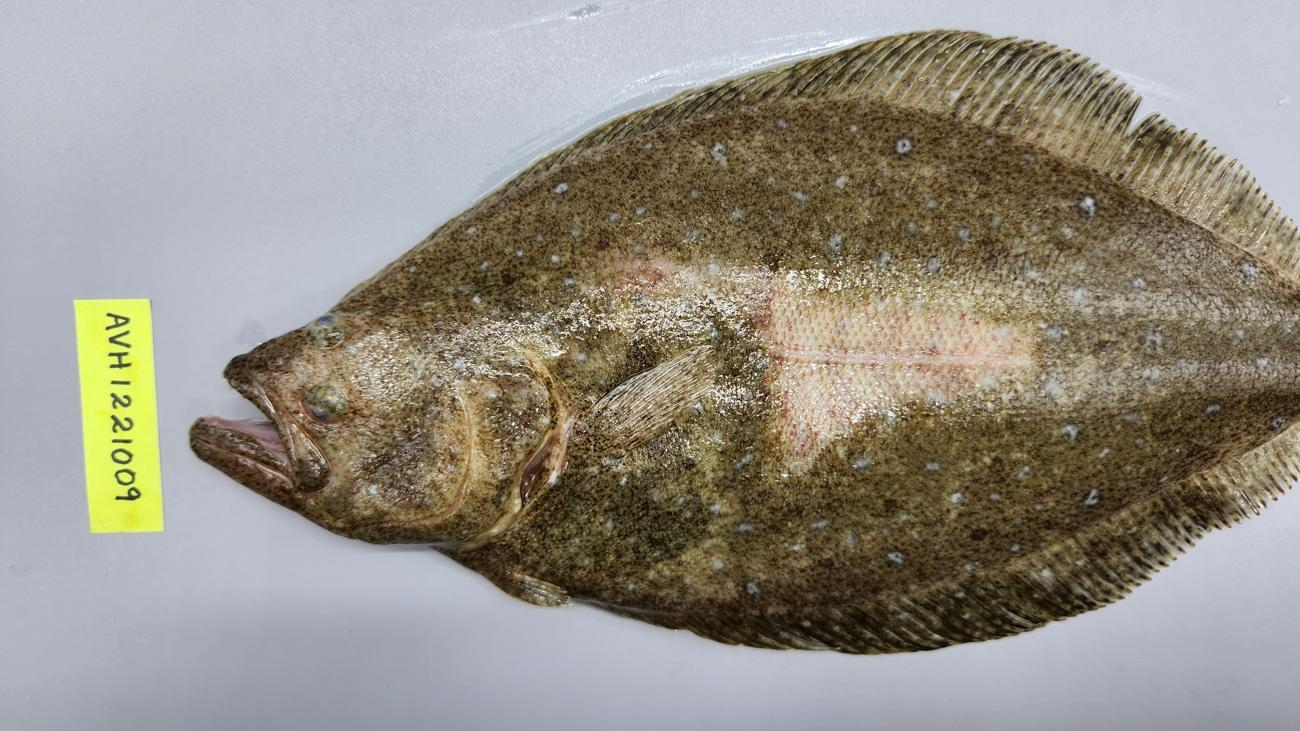VIDYH: (554, 517, 920, 614)
VIDYU: (588, 244, 1051, 486)
